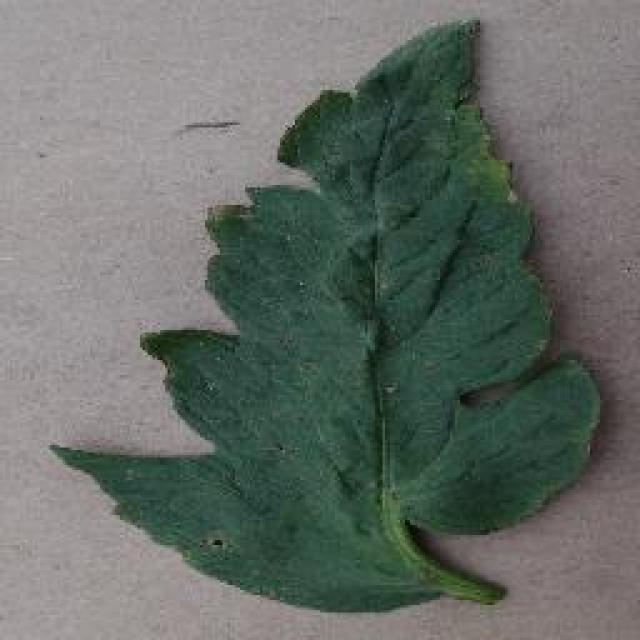Tomato bacterial spot leaf: (67, 30, 595, 622)
